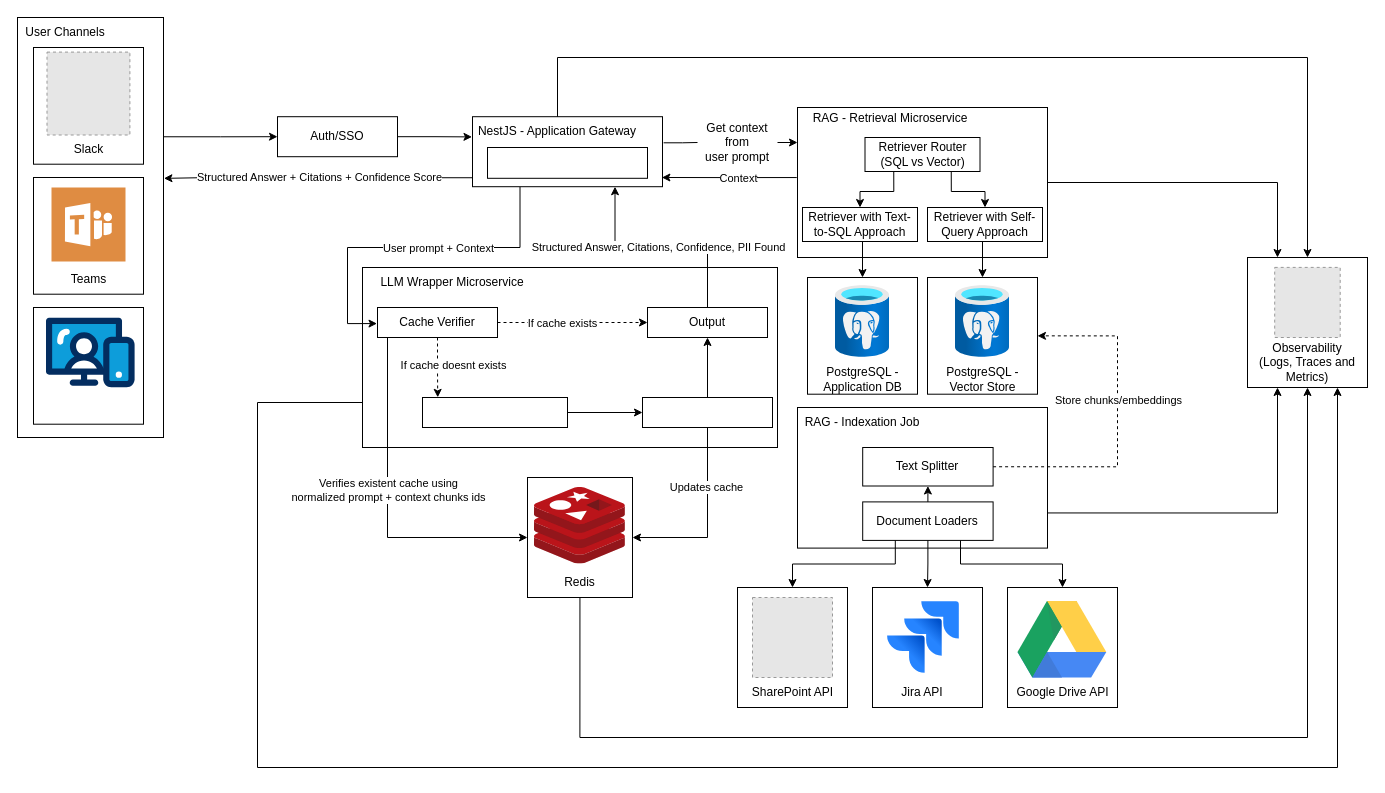
Image size: 1385x793. Some labels were removed from this diagram. Grey dashed boxes stand in for pictures. Each missing label, with the box of its shape:
LLM: (422, 396, 568, 428)
PII Masking + Schema Validator: (642, 396, 772, 428)
Rate/Quota Limiter: (486, 146, 648, 178)
Web App: (32, 306, 144, 424)
